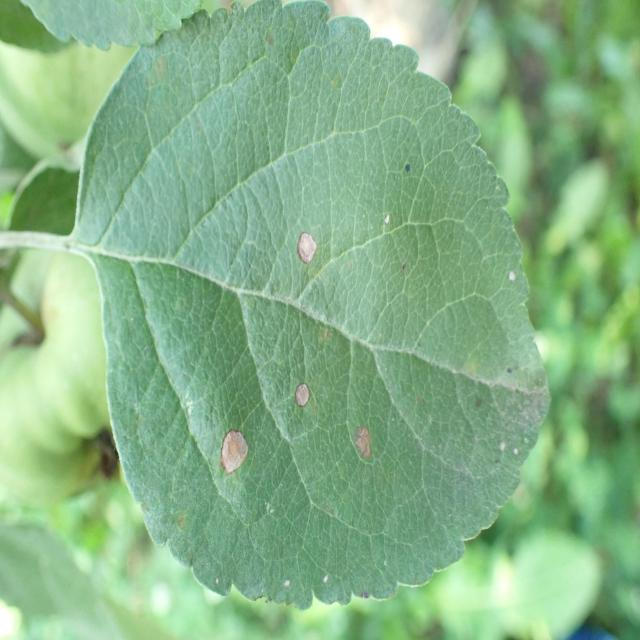frog-eye-leaf-spot: (72, 2, 551, 609)
